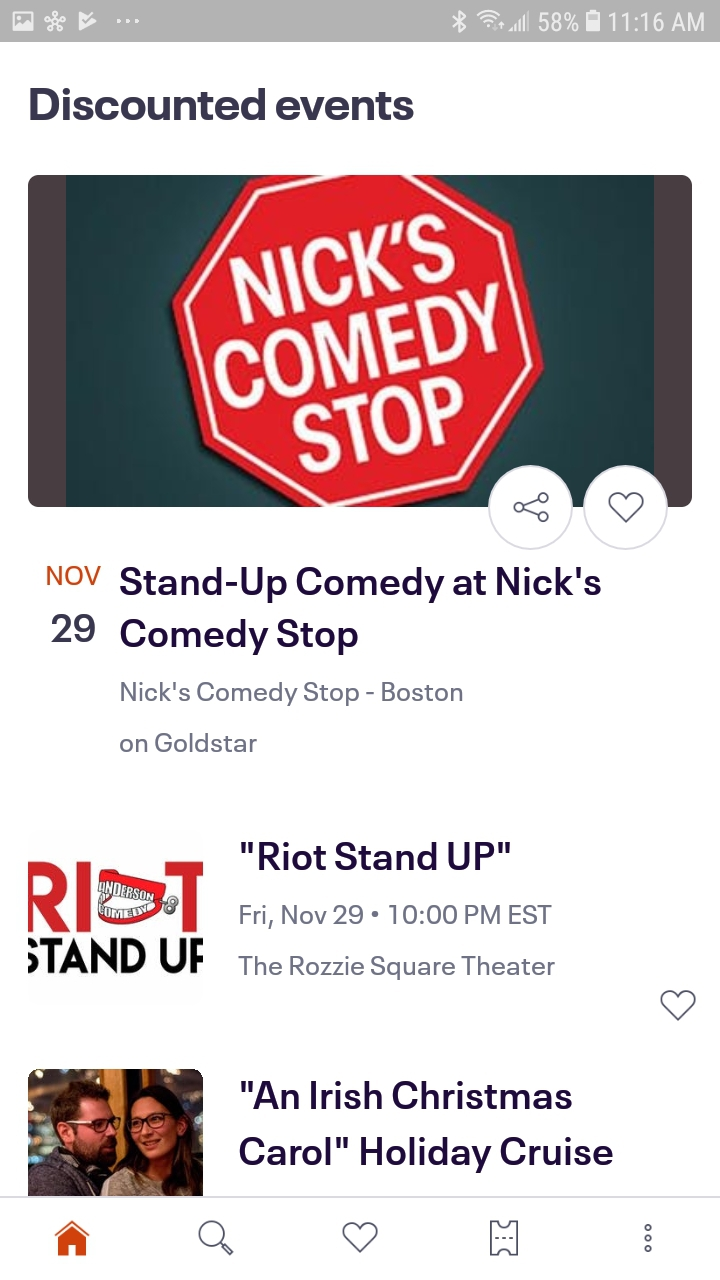Icon: (488, 465, 574, 551), (583, 465, 668, 551), (198, 1219, 235, 1256), (55, 1220, 91, 1257), (342, 1221, 379, 1253), (660, 990, 697, 1022), (489, 1220, 519, 1257), (644, 1224, 653, 1253)
Image: (28, 175, 692, 508), (28, 1069, 204, 1196), (28, 861, 205, 975)
Text: (120, 566, 602, 656), (239, 1080, 613, 1174), (237, 903, 555, 981), (120, 681, 463, 753), (31, 88, 415, 122), (240, 841, 511, 872), (51, 614, 97, 644), (47, 565, 102, 586)
UpperTaskBar: (1, 1, 720, 43)
